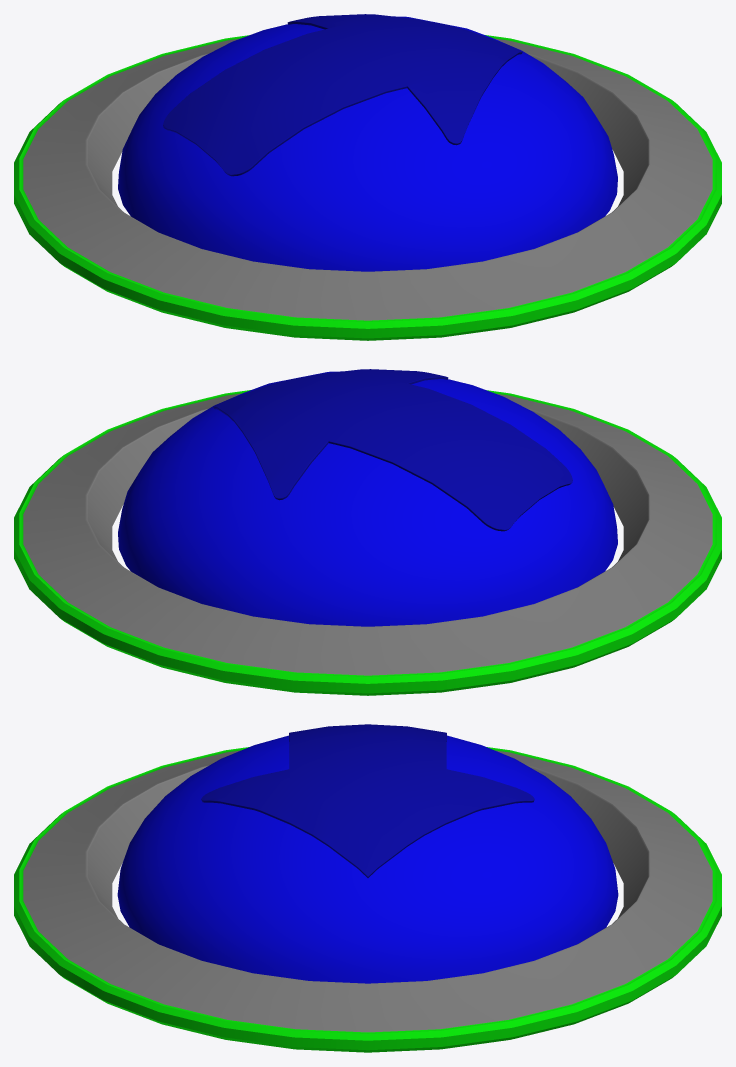
File: RoundButton.fbx
3 views of the same model, one above another, from view 1: azimuth 30°, elevation 25°; view 2: azimuth 150°, elevation 25°; view 3: azimuth 270°, elevation 25° (orthographic).
Parts seen in each view (by area): view 1: RoundButton; view 2: RoundButton; view 3: RoundButton.
Boxes of the visible parts, x1=… form: RoundButton: x1=14, y1=14, x2=721, y2=340; RoundButton: x1=14, y1=369, x2=721, y2=695; RoundButton: x1=14, y1=724, x2=721, y2=1052.
Size of the model in its own units: 2.84 by 0.6255 by 2.83.
